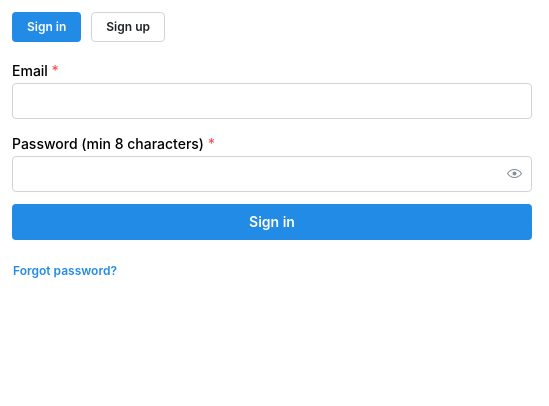
Test: AuthPanel flows › surfaces a server error from registration
Click the button "Sign up". click: click(128, 27)
box: [91, 12, 165, 42]
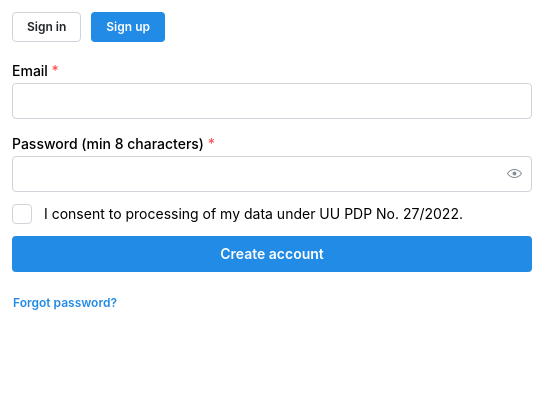
Type "a@b.co" into the field labelled "Email *". click: (272, 101)
box: [12, 83, 532, 119]
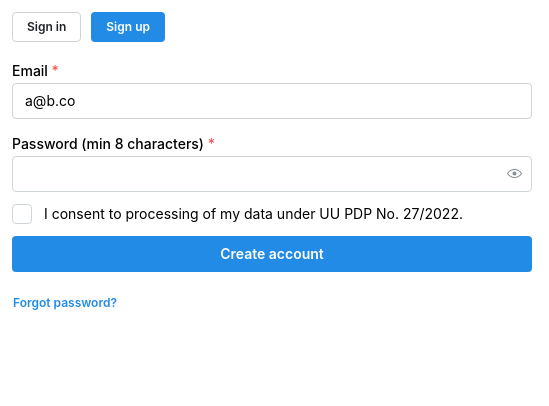
Type "password123" into the password field labelled "Password (min 8 characters) *". click: (272, 174)
box: [13, 157, 531, 191]
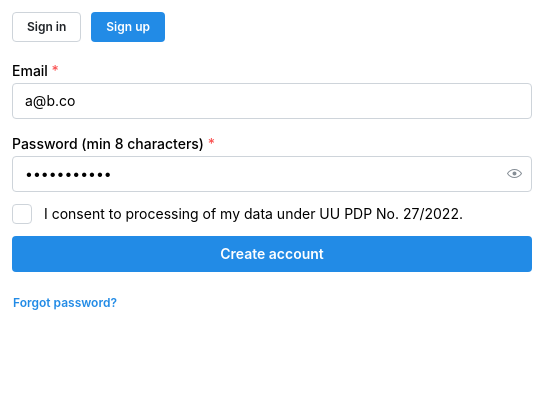
Click the checkbox. click: click(22, 214)
box: [12, 204, 32, 224]
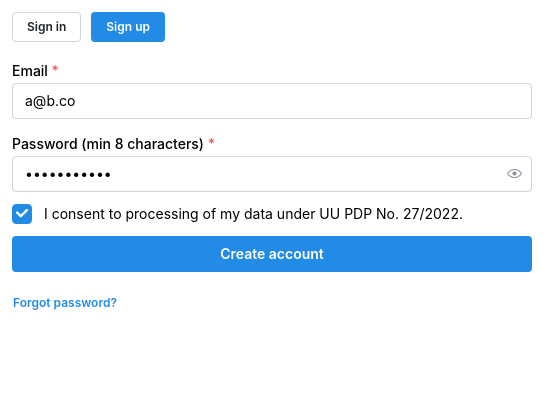
Click the button "Create account". click: click(272, 254)
box: [12, 236, 532, 272]
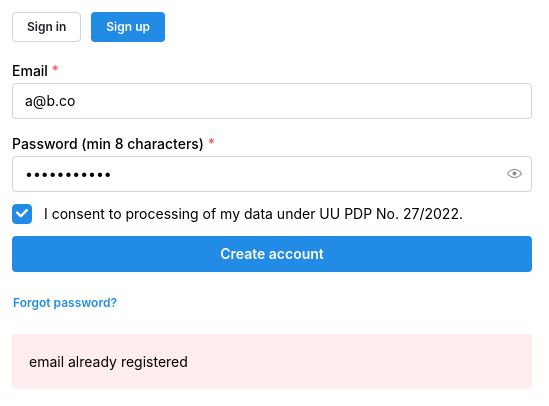
Result: the text "email already registered" is shown at [29, 353, 188, 370]
